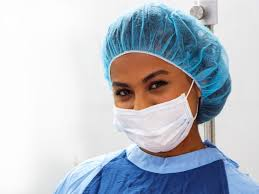mask: (110, 51, 200, 151)
